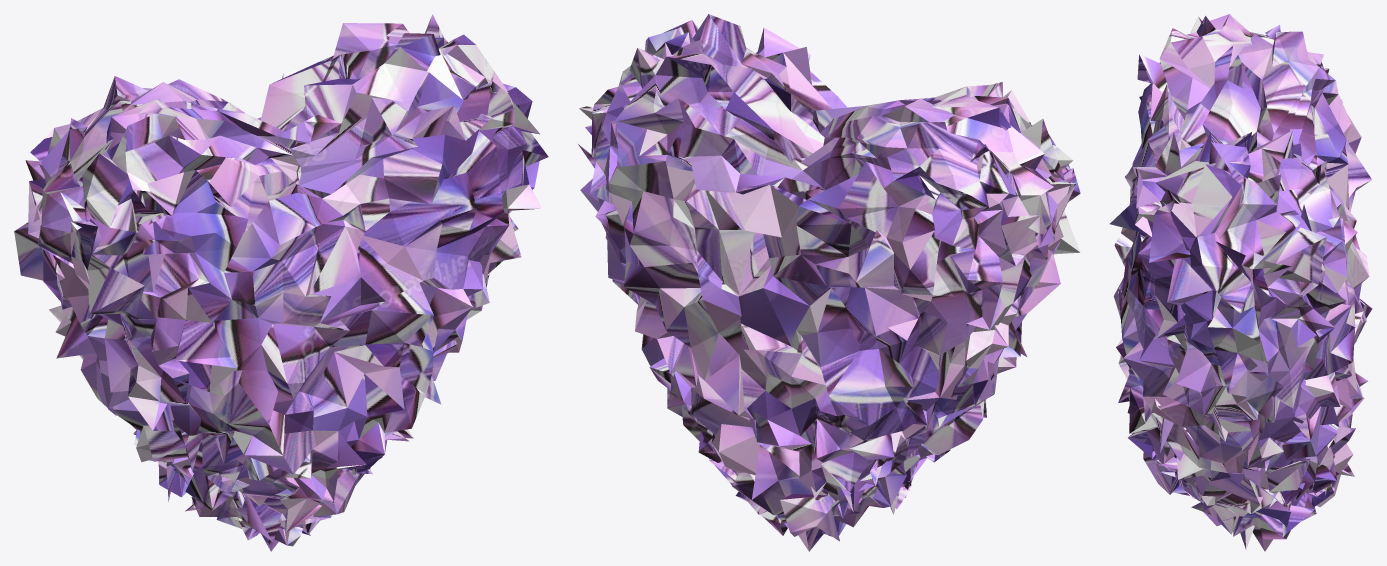
Rendered from heart_splitter_trans.dae.
The picture shows the model from 3 angles, left to right: view 1: azimuth 30°, elevation 25°; view 2: azimuth 150°, elevation 25°; view 3: azimuth 270°, elevation 25°; orthographic projection. The views are drawn at different scales.
Visible parts, largest first — view 1: Cube; view 2: Cube; view 3: Cube.
Part boxes in pixels (x1,y1,x2,y2): Cube: [14, 14, 548, 551]; Cube: [578, 14, 1080, 551]; Cube: [1110, 14, 1372, 551].
Bounding box in the file's own units: 27.29 × 13.9 × 27.39.
Materials: 1 (1 with a texture image).
